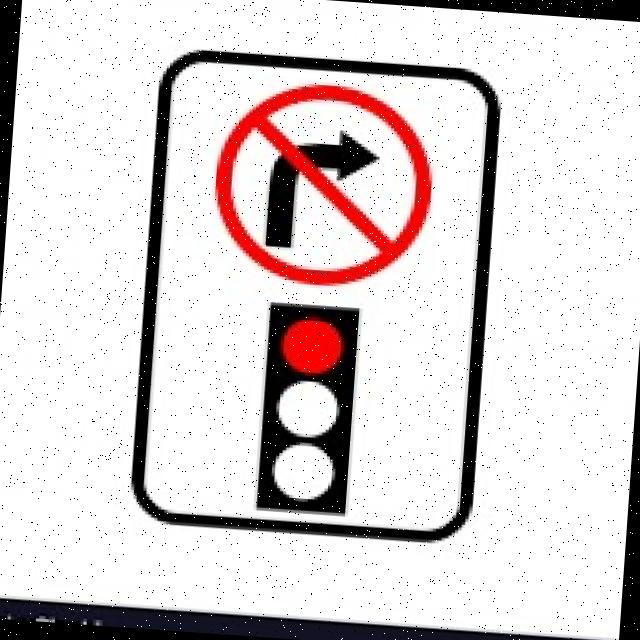do_not_turn_right: (204, 74, 443, 294)
